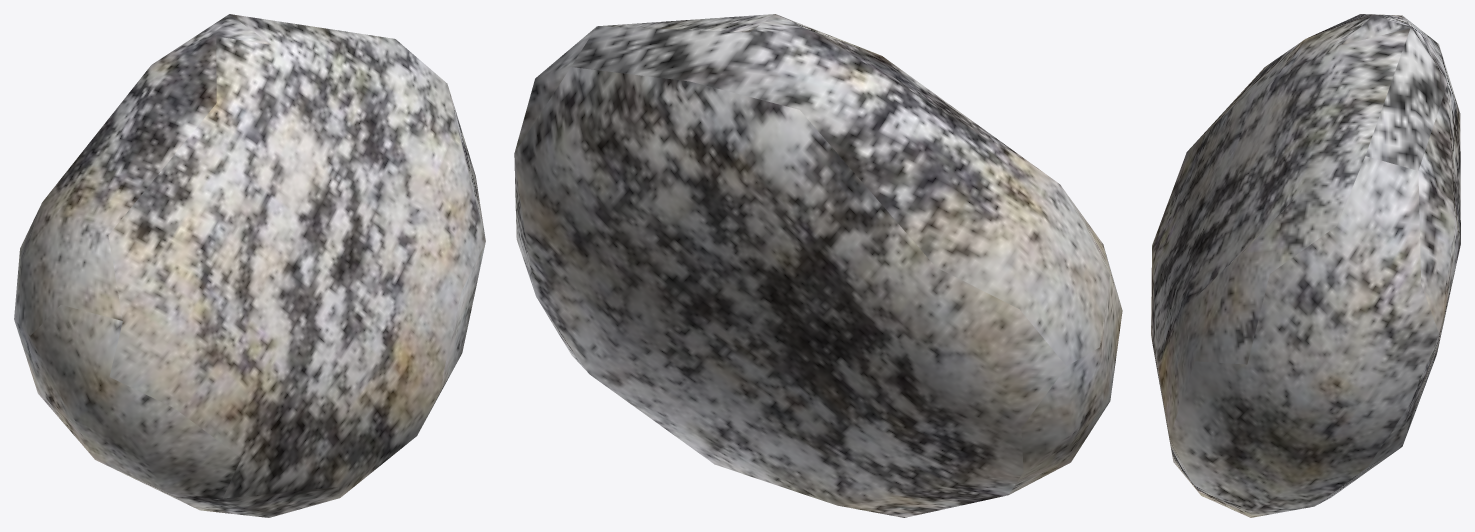
The picture shows the model from 3 angles, left to right: view 1: azimuth 30°, elevation 25°; view 2: azimuth 150°, elevation 25°; view 3: azimuth 270°, elevation 25°; orthographic projection. The views are drawn at different scales.
Parts seen in each view (by area): view 1: rock029_lod4; view 2: rock029_lod4; view 3: rock029_lod4.
Part boxes in pixels (left/top/right/bottom): rock029_lod4: left=14, top=14, right=485, bottom=517; rock029_lod4: left=514, top=14, right=1122, bottom=517; rock029_lod4: left=1151, top=14, right=1460, bottom=517.
Bounding box in the file's own units: 1 × 0.9042 × 0.5335.
Materials: 1 (1 with a texture image).
